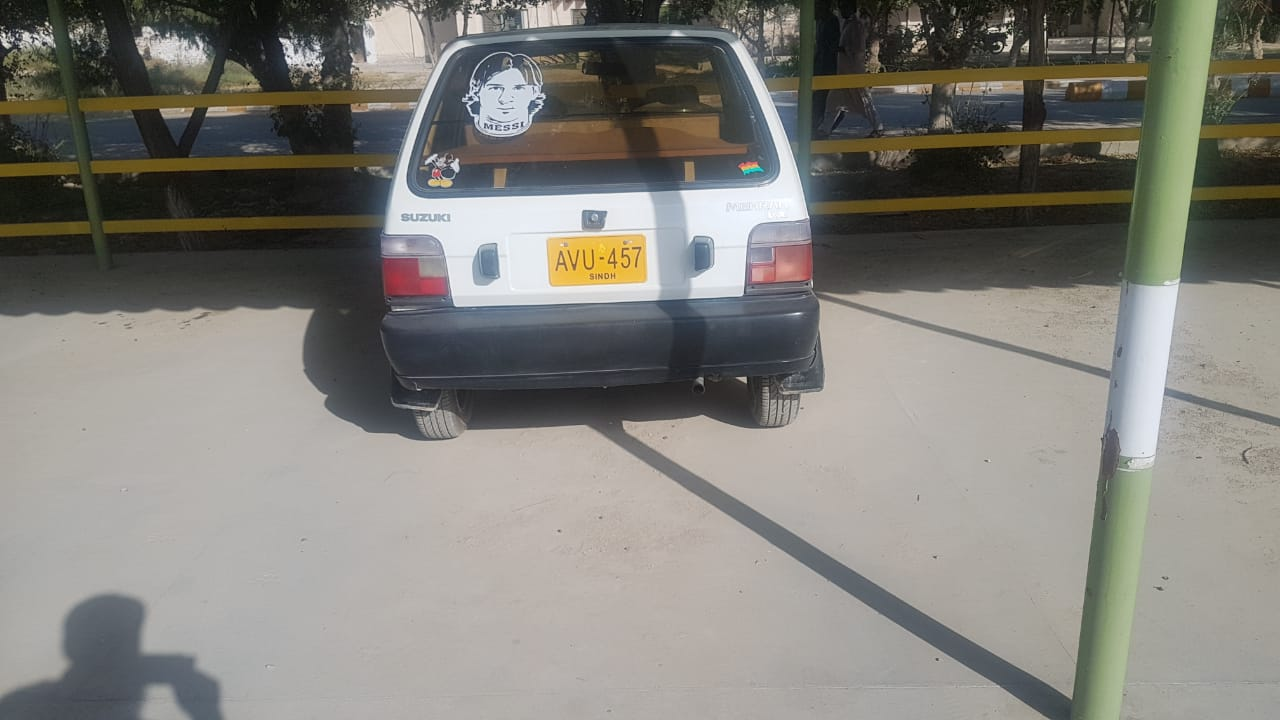license plate: (546, 237, 649, 284)
